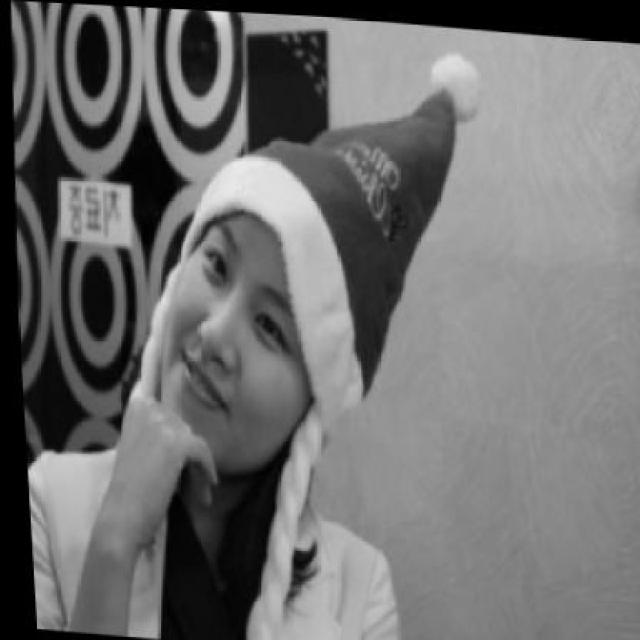hat: (174, 54, 480, 427)
